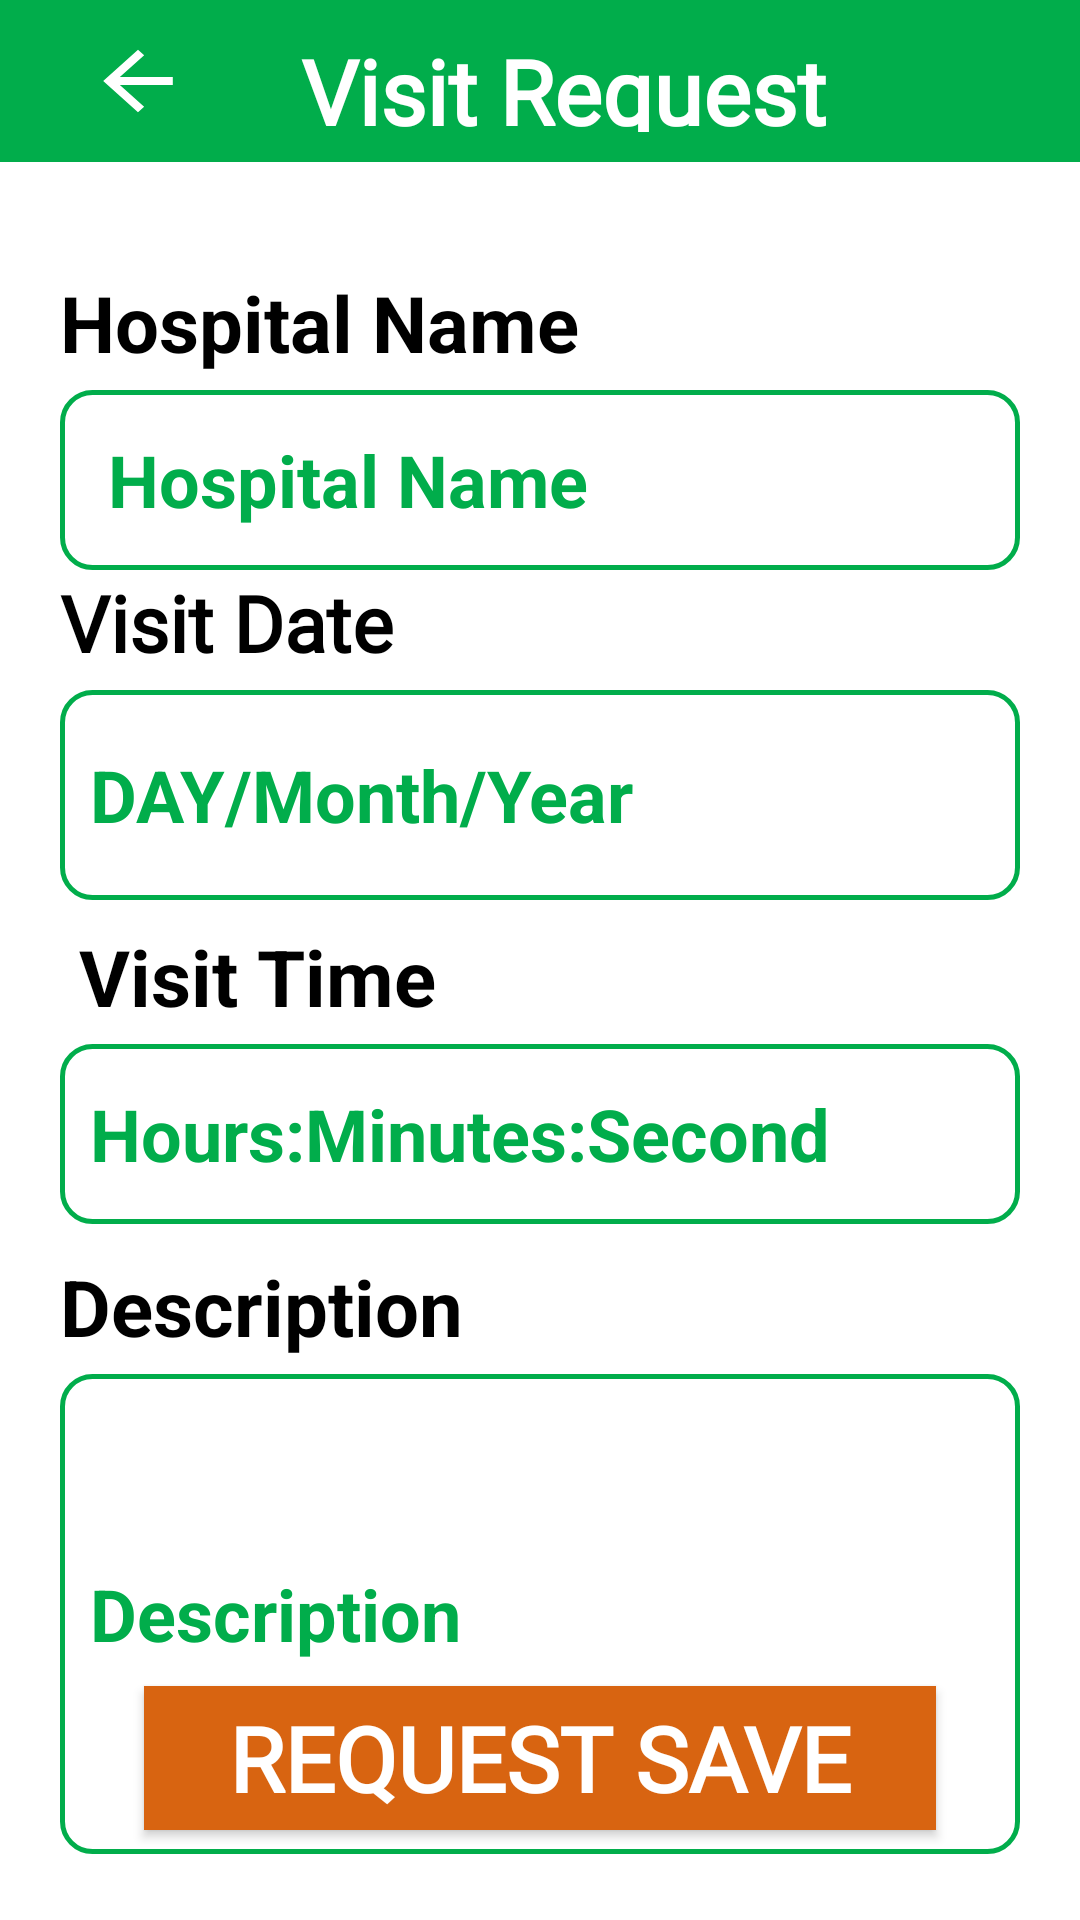

Icons on this 1080px x 1920px Android screen, each with its box as [x1=x1, y1=y1, x2=x2, y2=y2]:
back: [x1=103, y1=50, x2=173, y2=112]
